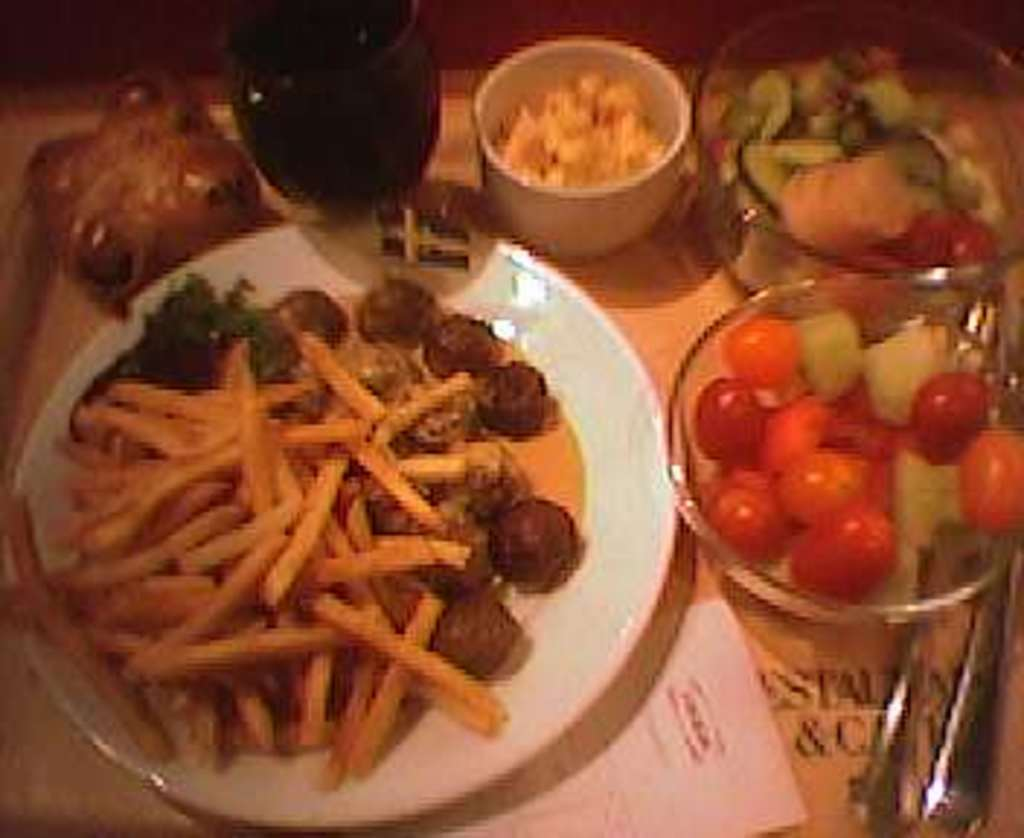French fries: (40, 276, 561, 773)
